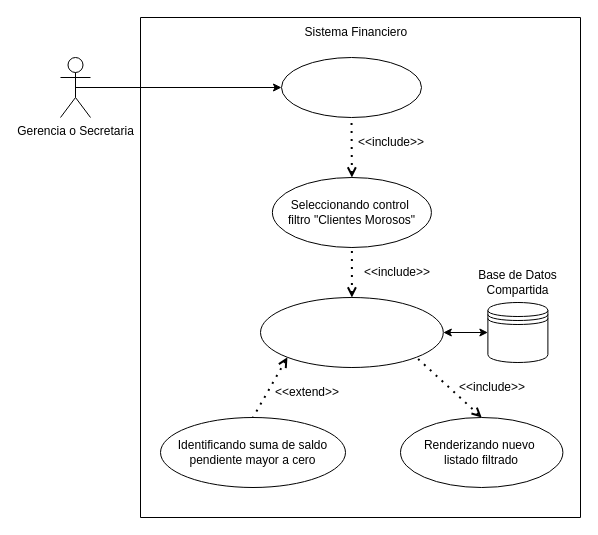
The diagram is 598 pixels wide and 535 high, and some of its shapes have lost their labels. The centre of each missing label's shape, as x and y in pixels:
"Aplicando filtros de cartera morosa" goes at (x=351, y=87).
"Inspeccionando Nota de Ventas activas de Clientes" goes at (x=351, y=332).
